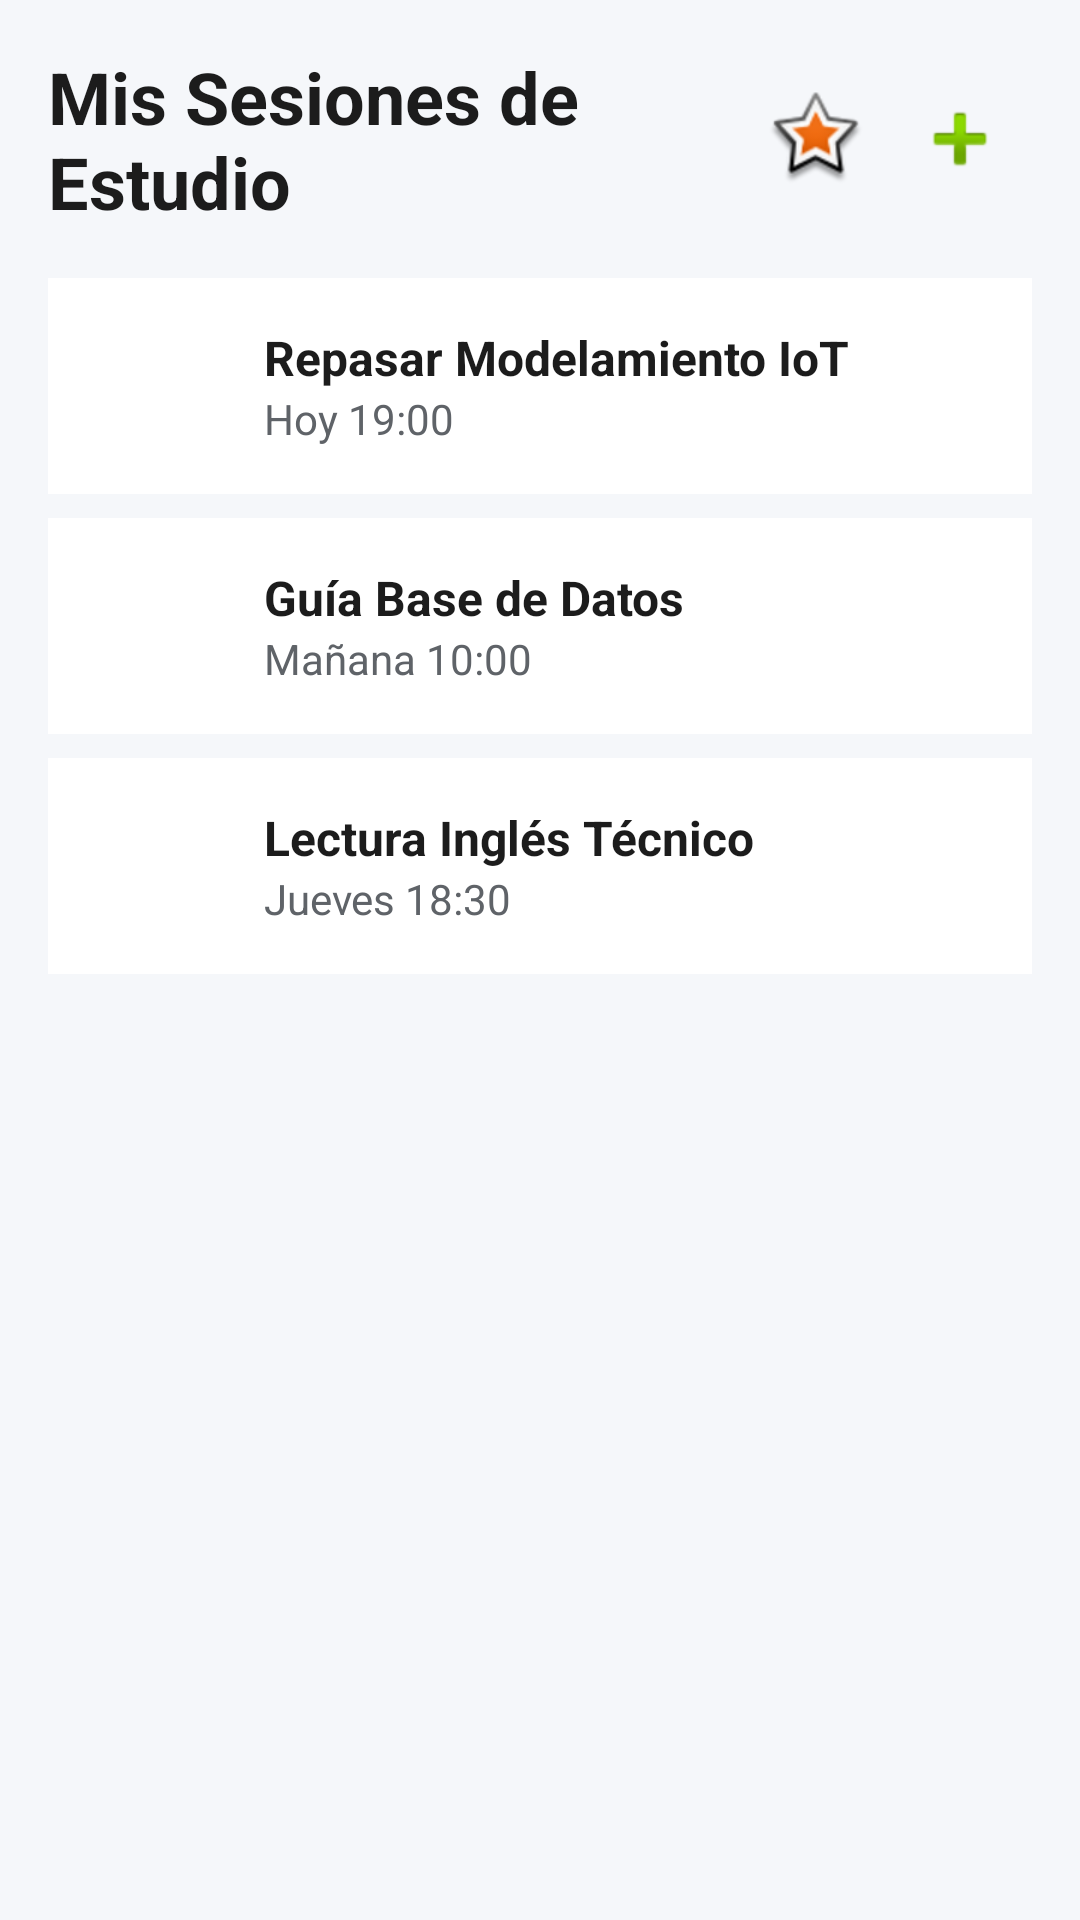

Point at icon controls on the screen. Image size 1080 x 1920, points as [x,y].
Agregar sesión de estudio: [960,139]
